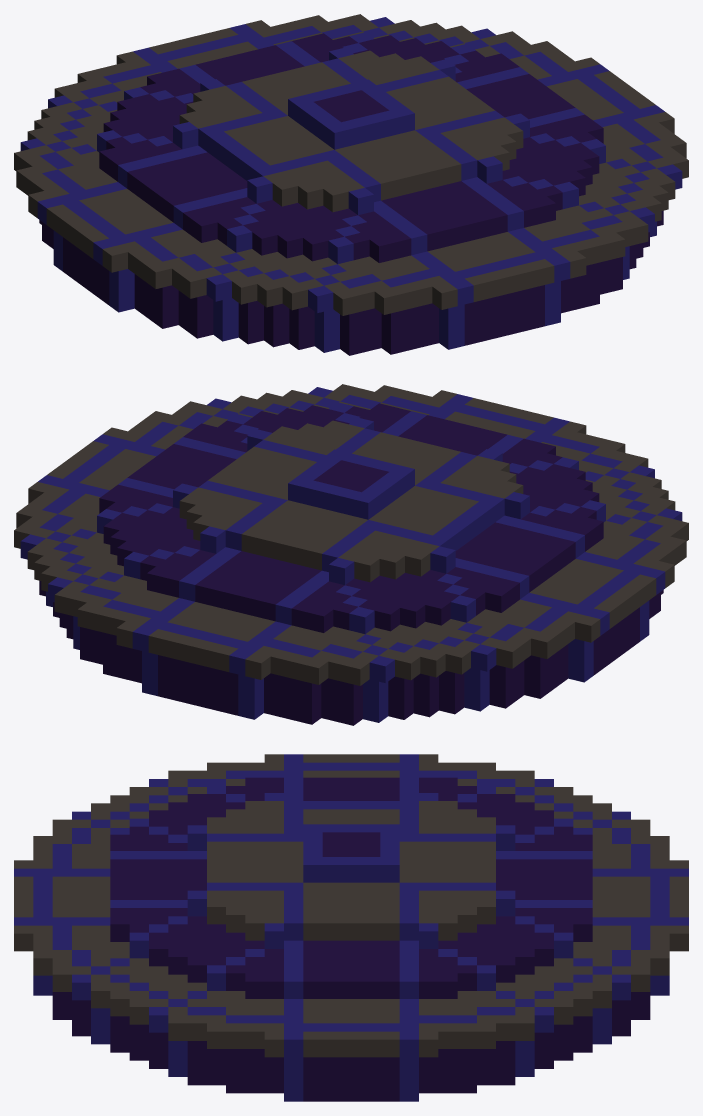
The model's file is skyscraper3-0.obj.
3 renders of one model, top to bottom at view 1: azimuth 30°, elevation 25°; view 2: azimuth 150°, elevation 25°; view 3: azimuth 270°, elevation 25°, orthographic. The views are drawn at different scales.
Size of the model in its own units: 3.5 by 0.7 by 3.5.
Materials: 1 (1 with a texture image).
